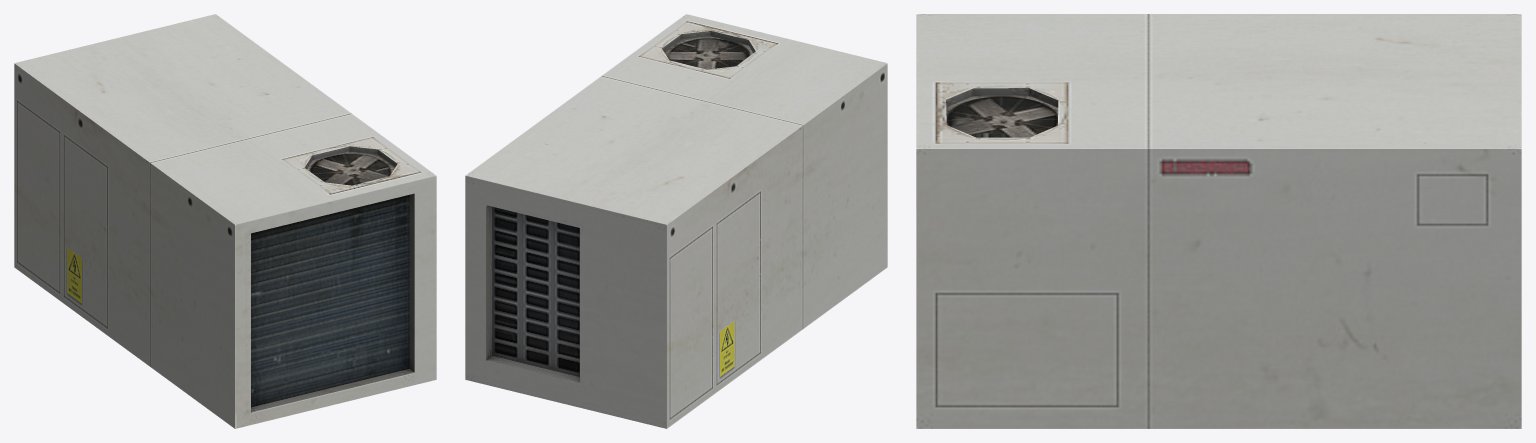
Rendered from aircon.fbx.
3 renders of one model, left to right at view 1: azimuth 30°, elevation 25°; view 2: azimuth 150°, elevation 25°; view 3: azimuth 270°, elevation 25°, orthographic. The views are drawn at different scales.
Parts seen in each view (by area): view 1: airconMesh; view 2: airconMesh; view 3: airconMesh.
Boxes of the visible parts, left/top/right/bottom form: airconMesh: left=14, top=14, right=436, bottom=428; airconMesh: left=465, top=14, right=887, bottom=428; airconMesh: left=916, top=14, right=1521, bottom=428.
Size of the model in its own units: 116 by 112 by 220.
